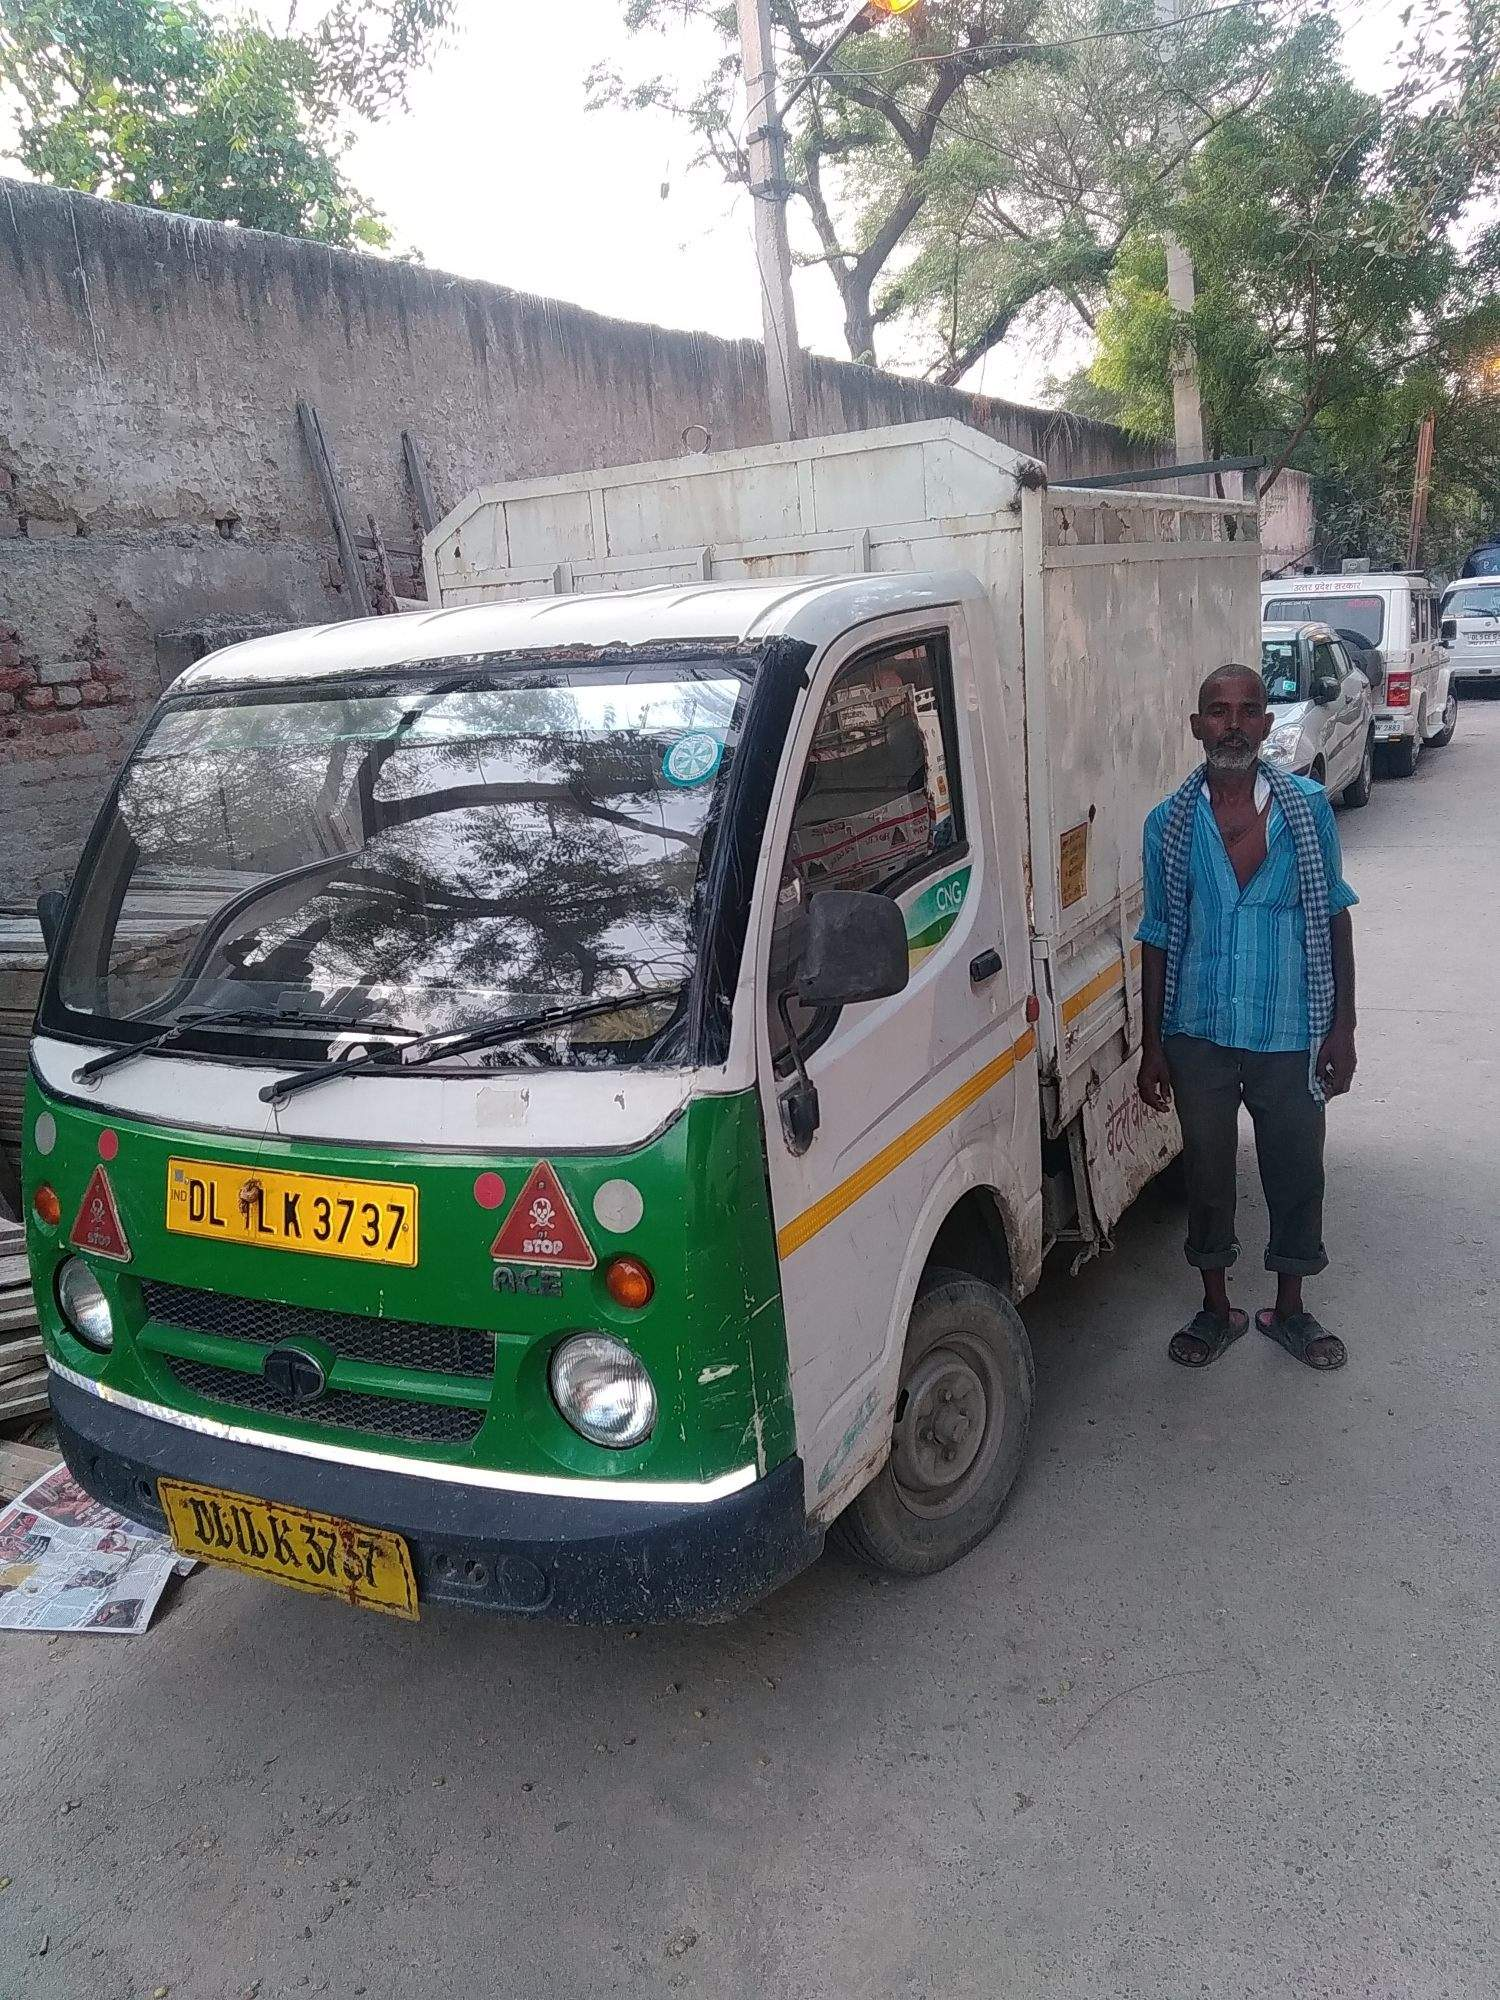numberplate: (162, 1144, 423, 1275)
